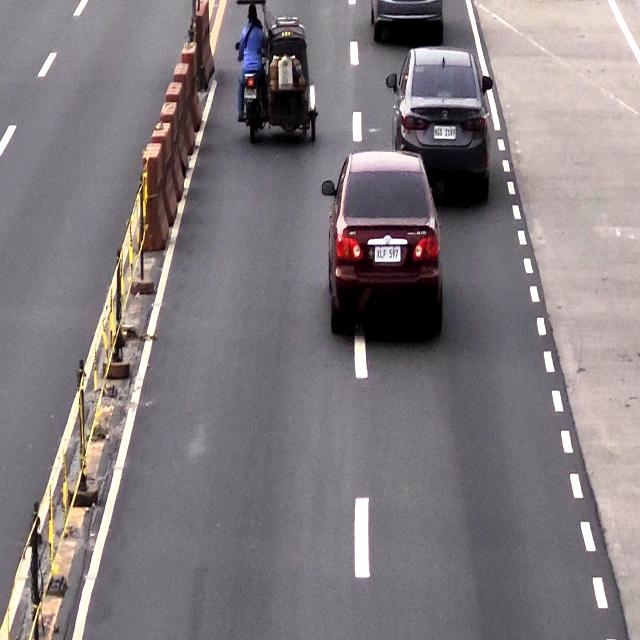Car: (330, 151, 440, 337), (395, 50, 489, 201)
License-Plate: (373, 246, 401, 266), (434, 123, 456, 141), (243, 86, 258, 99)
Tricycle: (234, 0, 322, 135)
